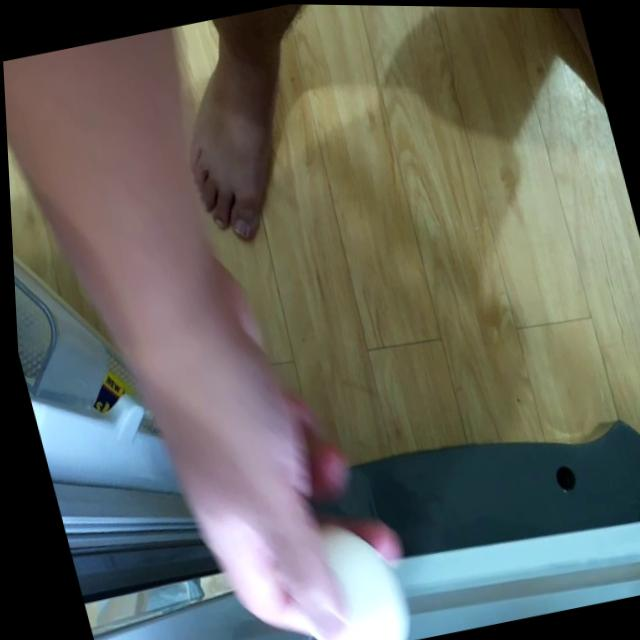egg: (283, 517, 407, 640)
